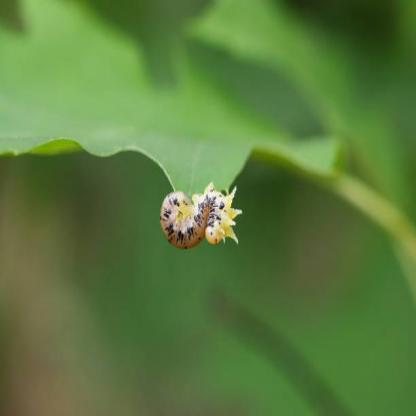sawfly: (156, 182, 242, 255)
